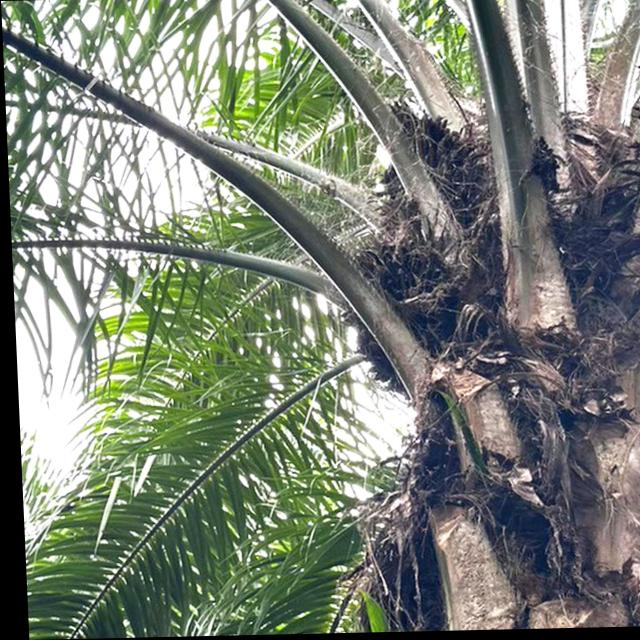unripe: (332, 230, 468, 394)
